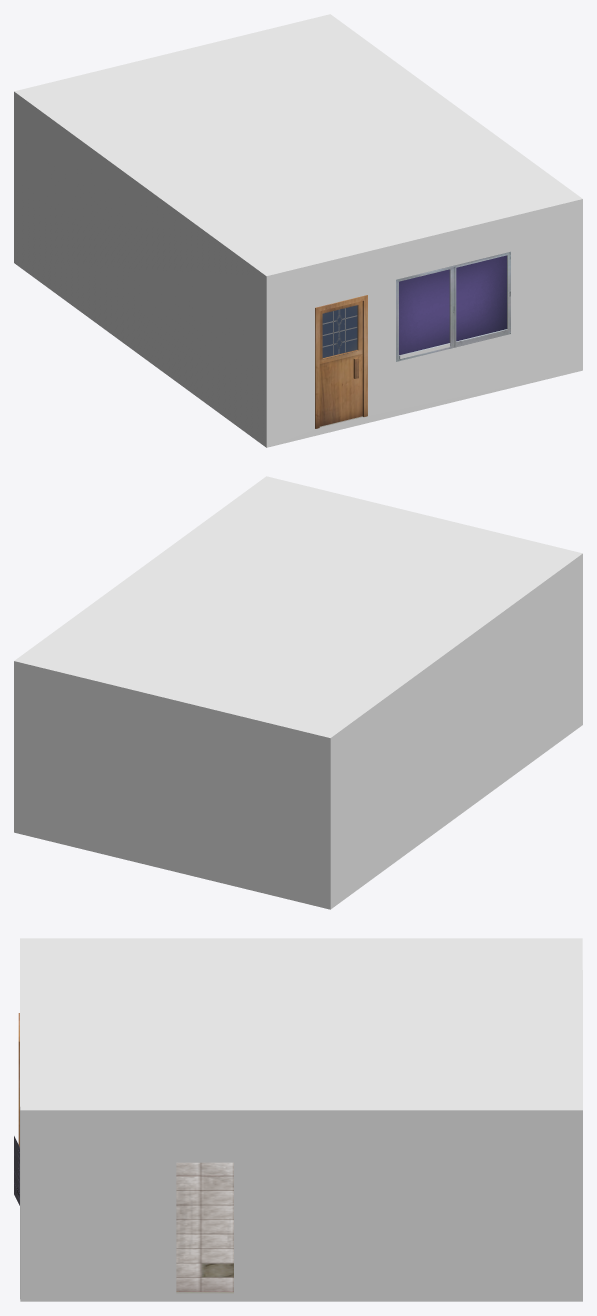
Rendered from main_room.gltf.
3 renders of one model, top to bottom at view 1: azimuth 30°, elevation 25°; view 2: azimuth 150°, elevation 25°; view 3: azimuth 270°, elevation 25°, orthographic. The views are drawn at different scales.
Parts seen in each view (by area): view 1: Plane, Plane.001, Cube.002, Plane.002, Cube; view 2: Plane; view 3: Plane.
Part boxes in pixels (<box>): Plane: <box>14,14,582,447</box>; Plane.001: <box>399,255,506,355</box>; Cube.002: <box>319,301,362,426</box>; Plane.002: <box>396,251,510,361</box>; Cube: <box>315,295,367,428</box>; Plane: <box>14,476,582,909</box>; Plane: <box>20,938,582,1301</box>.
Size of the model in its own units: 5.65 by 2.93 by 7.89.
3 materials, 3 textured.
